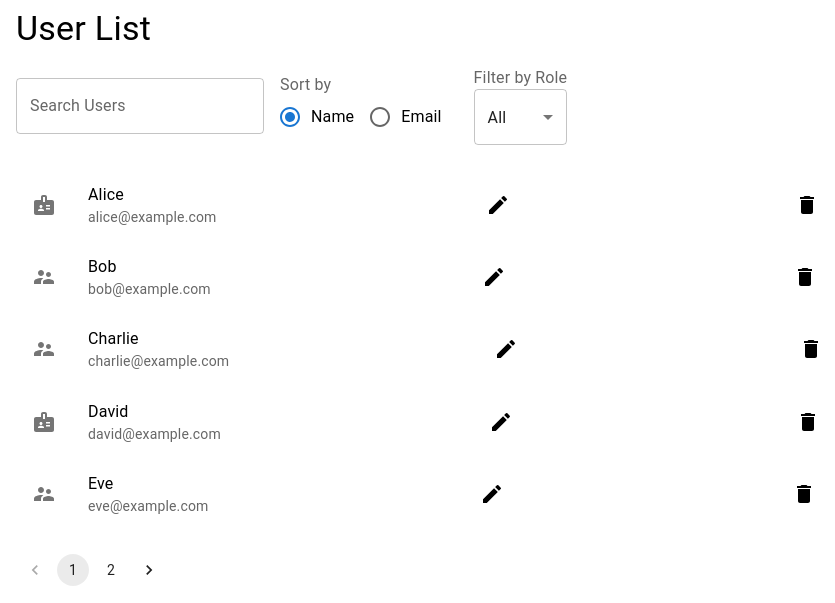
it: UserEmployeeListMittel › should filter users based on search term
Step 1. Type "Alice" into the field labelled "Search Users" → x=140, y=106, box left=16, top=78, right=264, bottom=134
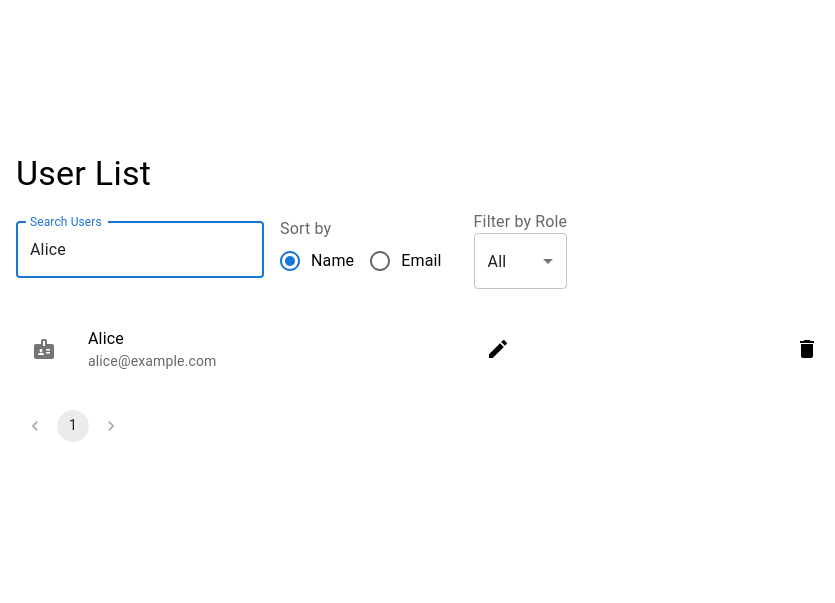
Expected: the text "Alice" is shown, left=88, top=330, right=124, bottom=348
Now the text "Bob" is gone
